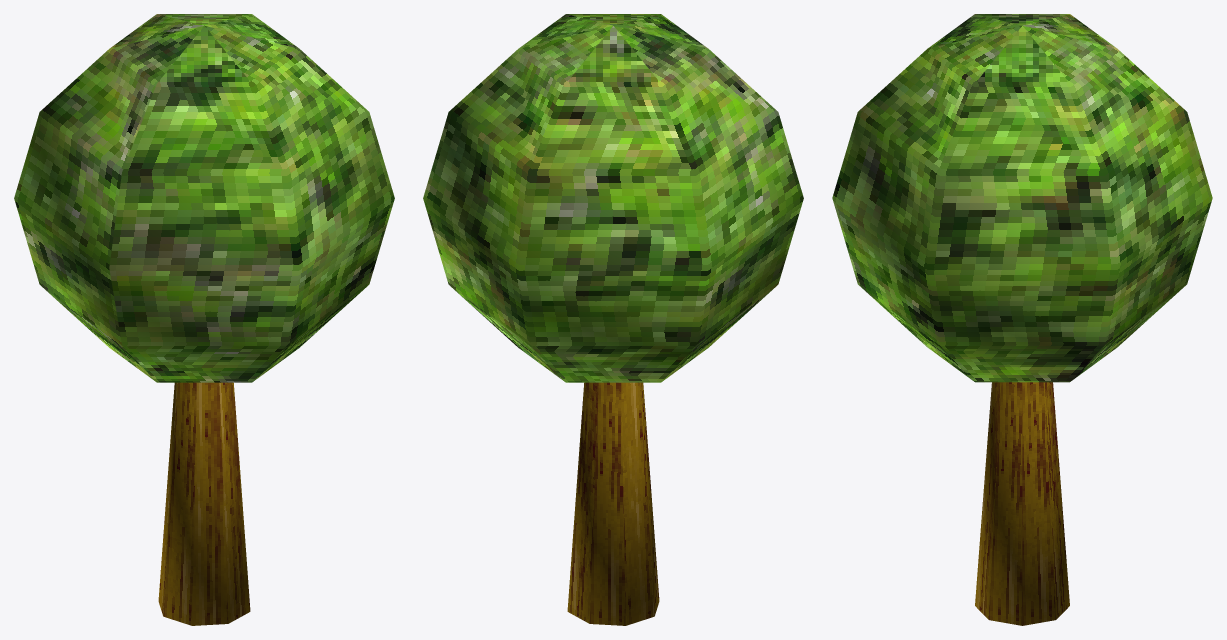
The model's file is tree.glb.
3 renders of one model, left to right at view 1: azimuth 30°, elevation 25°; view 2: azimuth 150°, elevation 25°; view 3: azimuth 270°, elevation 25°, orthographic.
Parts seen in each view (by area): view 1: Tree; view 2: Tree; view 3: Tree.
Part boxes in pixels (bbox=[...]): Tree: bbox=[14, 14, 394, 625]; Tree: bbox=[423, 14, 803, 625]; Tree: bbox=[832, 14, 1212, 625].
Size of the model in its own units: 2.08 by 4.04 by 2.4.
Materials: 1 (1 with a texture image).
